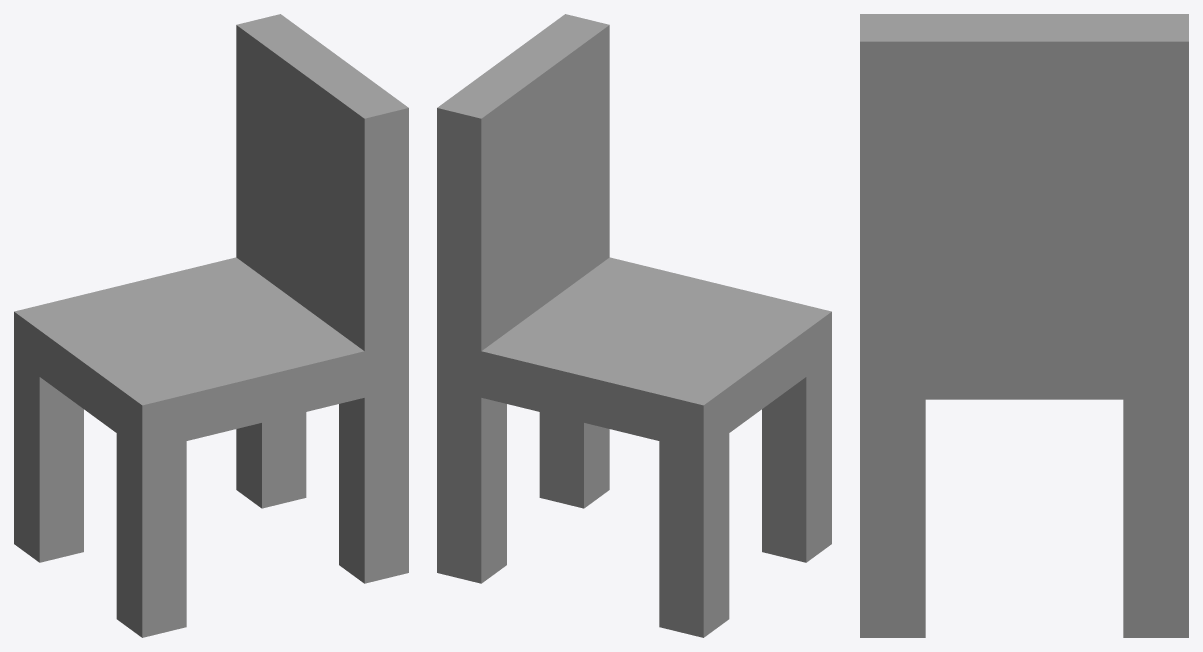
File: Silla.obj
The picture shows the model from 3 angles, left to right: view 1: azimuth 30°, elevation 25°; view 2: azimuth 150°, elevation 25°; view 3: azimuth 270°, elevation 25°; orthographic projection. The views are drawn at different scales.
Parts seen in each view (by area): view 1: Untitled.002; view 2: Untitled.002; view 3: Untitled.002.
Part boxes in pixels (<box>): Untitled.002: <box>14,14,408,637</box>; Untitled.002: <box>437,14,831,637</box>; Untitled.002: <box>860,14,1188,637</box>.
Size of the model in its own units: 0.6 by 1 by 0.5.
